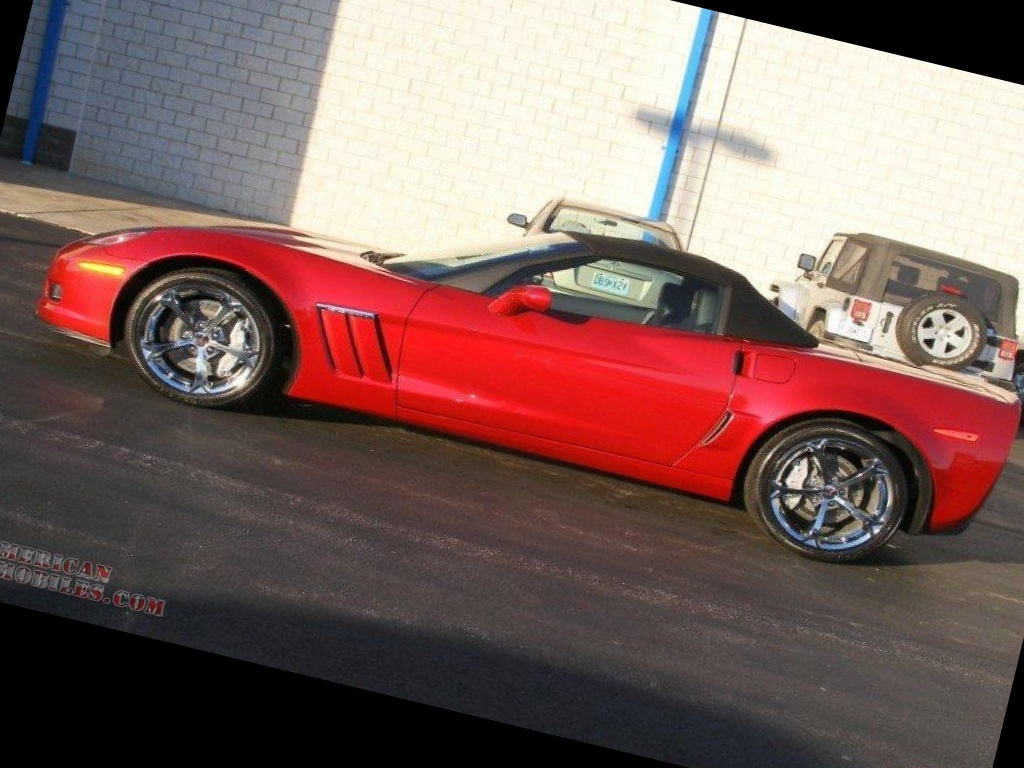car: (0, 41, 1024, 655), (767, 191, 1024, 401)
